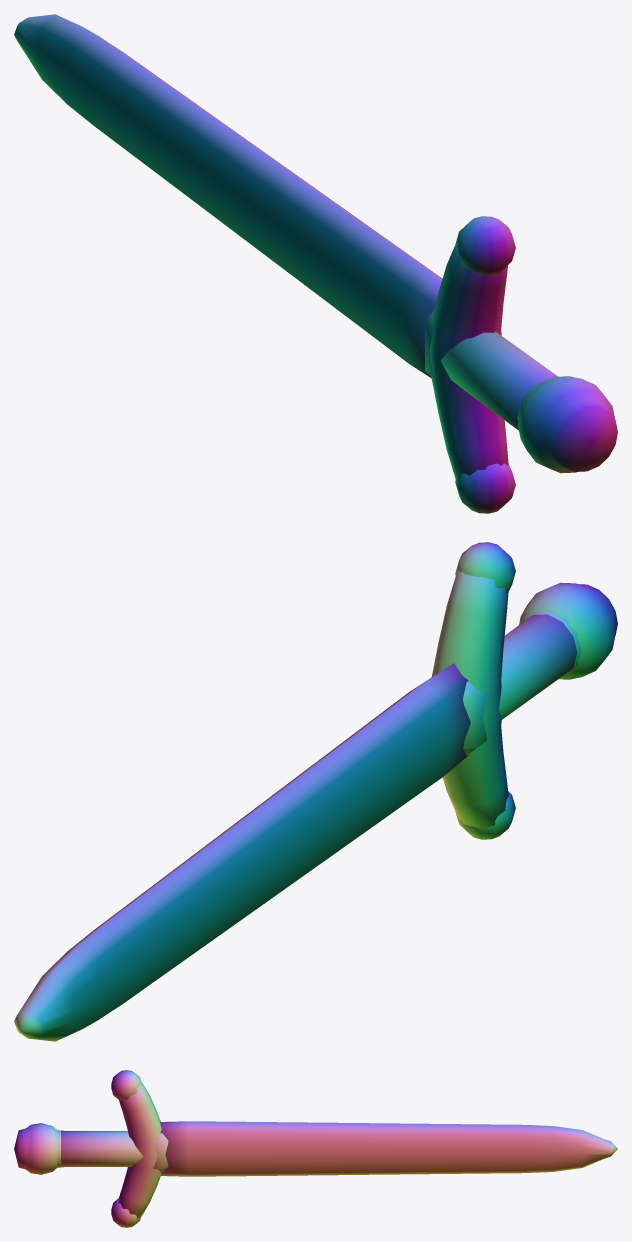
Rendered from SM_Hero_Warrior_Sword.fbx.
The picture shows the model from 3 angles, top to bottom: view 1: azimuth 30°, elevation 25°; view 2: azimuth 150°, elevation 25°; view 3: azimuth 270°, elevation 25°; orthographic projection. The views are drawn at different scales.
Parts seen in each view (by area): view 1: SM_Hero_Warrior_Sword; view 2: SM_Hero_Warrior_Sword; view 3: SM_Hero_Warrior_Sword.
Part boxes in pixels (box(x1,y1,x2,y2)): SM_Hero_Warrior_Sword: box(14, 14, 617, 513); SM_Hero_Warrior_Sword: box(14, 542, 617, 1041); SM_Hero_Warrior_Sword: box(14, 1070, 617, 1227).
Bounding box in the file's own units: 0.093 × 0.306 × 1.08.
